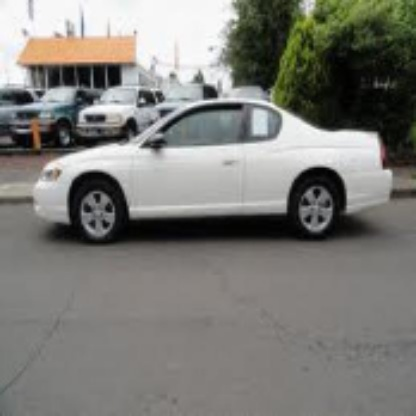Vehicle: (30, 88, 400, 247)
